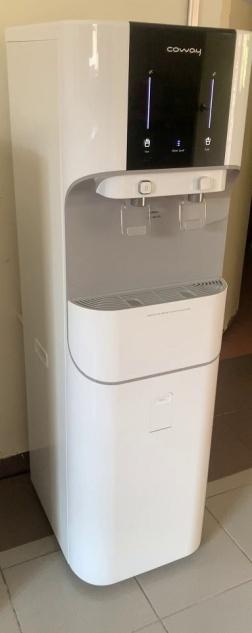Dispenser: (4, 18, 251, 586)
